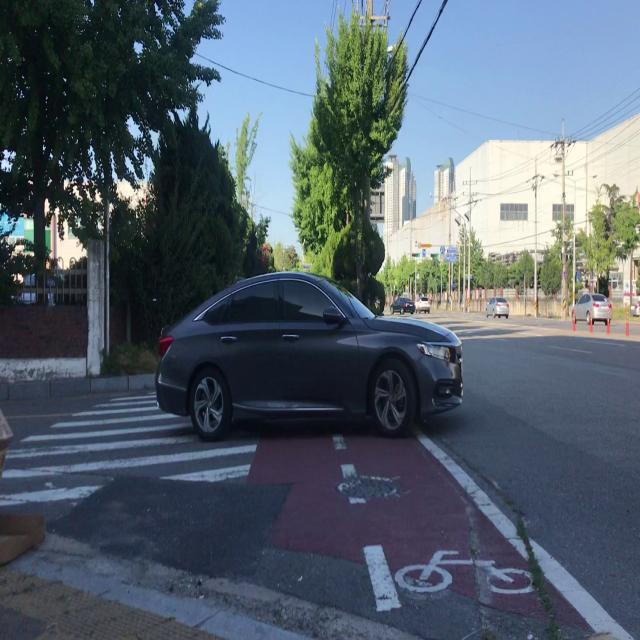횡단보도: (0, 392, 259, 508)
